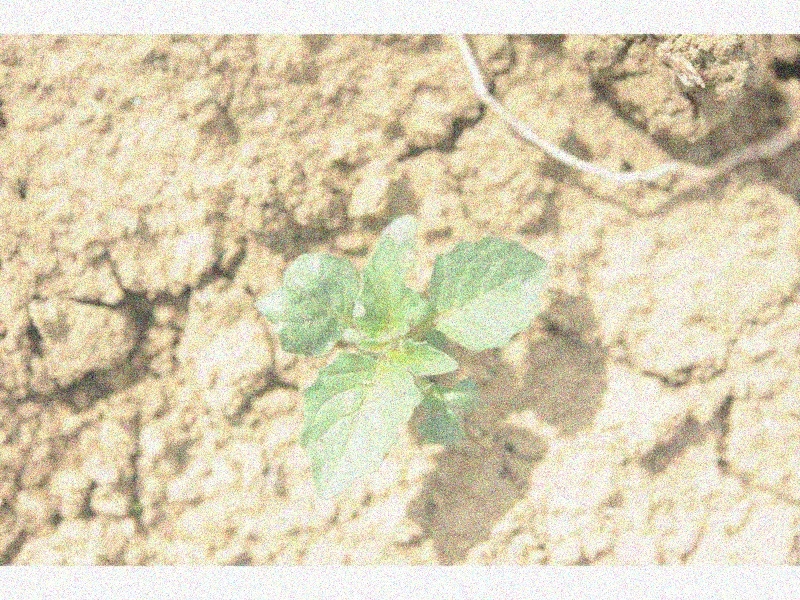nightshade: (252, 218, 555, 502)
